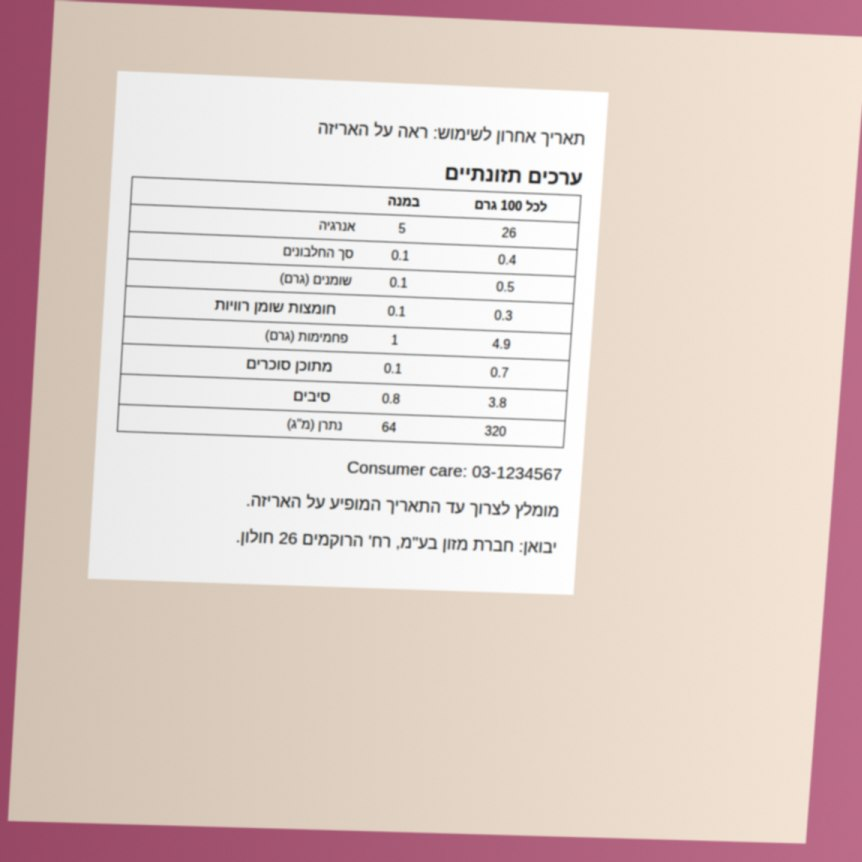carbs: (490, 335, 513, 353)
energy: (500, 224, 518, 242)
fat: (494, 278, 516, 296)
protein: (496, 251, 518, 269)
